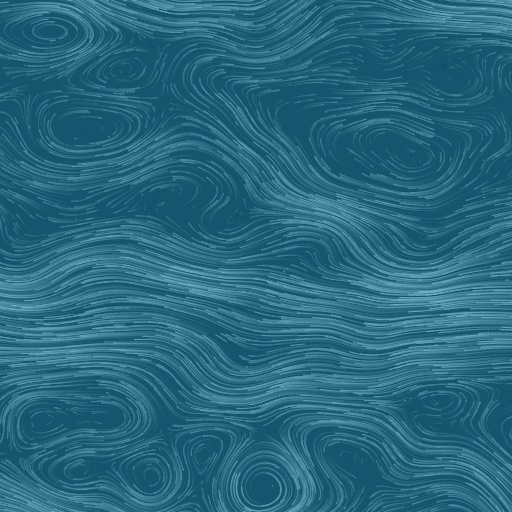eddy: (346, 113, 461, 191), (9, 388, 140, 455), (46, 446, 180, 502), (39, 99, 142, 158), (222, 441, 305, 511), (2, 4, 92, 58), (94, 52, 149, 88), (189, 436, 225, 478), (418, 389, 463, 413)
